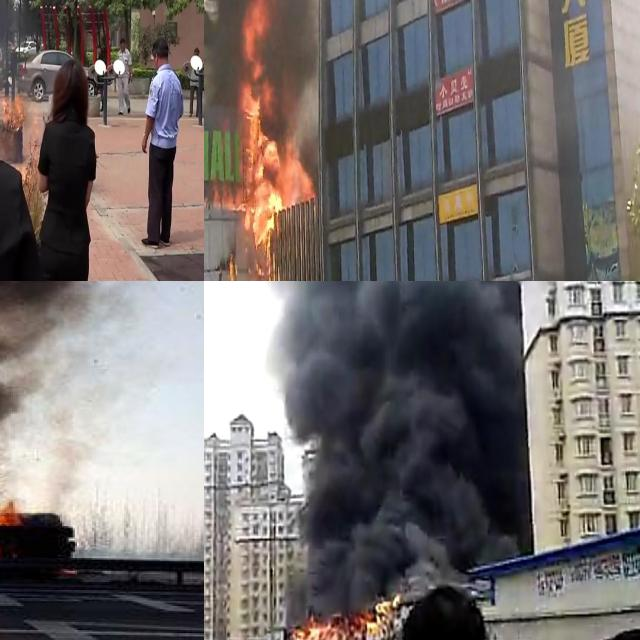fire: (216, 0, 314, 281), (290, 596, 402, 640), (0, 89, 24, 125)
smoke: (275, 281, 518, 587), (205, 0, 323, 62)
